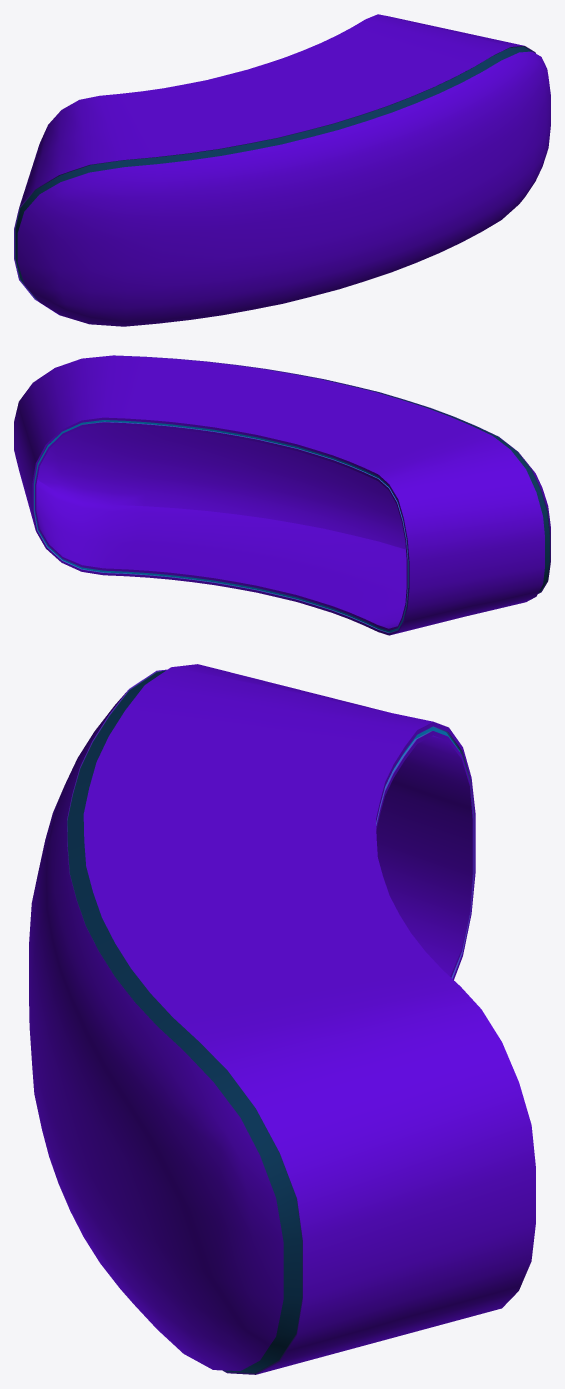
The model's file is BureauWhiteSci-fi.fbx.
3 views of the same model, one above another, from view 1: azimuth 30°, elevation 25°; view 2: azimuth 150°, elevation 25°; view 3: azimuth 270°, elevation 25° (orthographic). The views are drawn at different scales.
Parts seen in each view (by area): view 1: Bureau.001; view 2: Bureau.001; view 3: Bureau.001.
Part boxes in pixels (box(x1,y1,x2,y2)): Bureau.001: box(14, 14, 550, 326); Bureau.001: box(14, 355, 550, 635); Bureau.001: box(29, 664, 535, 1374).
Bounding box in the file's own units: 257 × 75.01 × 109.
